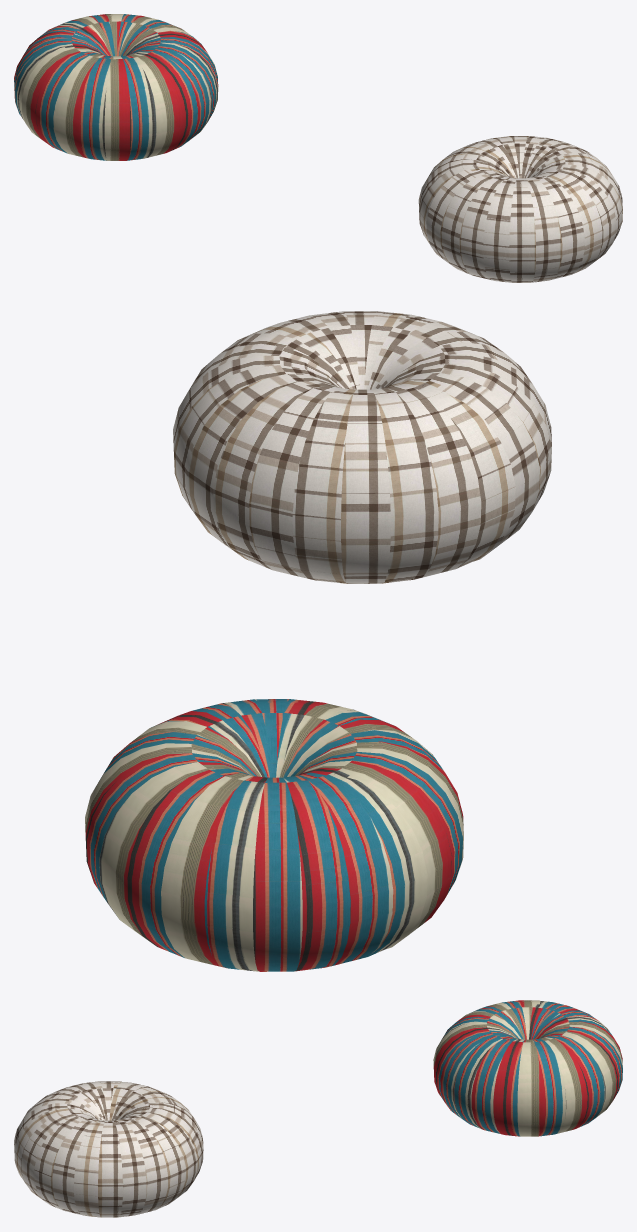
Rendered from puffs.fbx.
3 views of the same model, one above another, from view 1: azimuth 30°, elevation 25°; view 2: azimuth 150°, elevation 25°; view 3: azimuth 270°, elevation 25° (orthographic). The views are drawn at different scales.
Visible parts, largest first — view 1: Componente_3_1, Componente_4_1; view 2: Componente_3_1, Componente_4_1; view 3: Componente_4_1, Componente_3_1.
Boxes of the visible parts, x1,y1,x2,y2 form: Componente_3_1: [14, 14, 218, 160]; Componente_4_1: [418, 136, 622, 282]; Componente_3_1: [85, 699, 463, 971]; Componente_4_1: [173, 311, 551, 583]; Componente_4_1: [14, 1081, 203, 1217]; Componente_3_1: [433, 1000, 622, 1136].
Size of the model in its own units: 2.41 by 0.6145 by 3.86.
